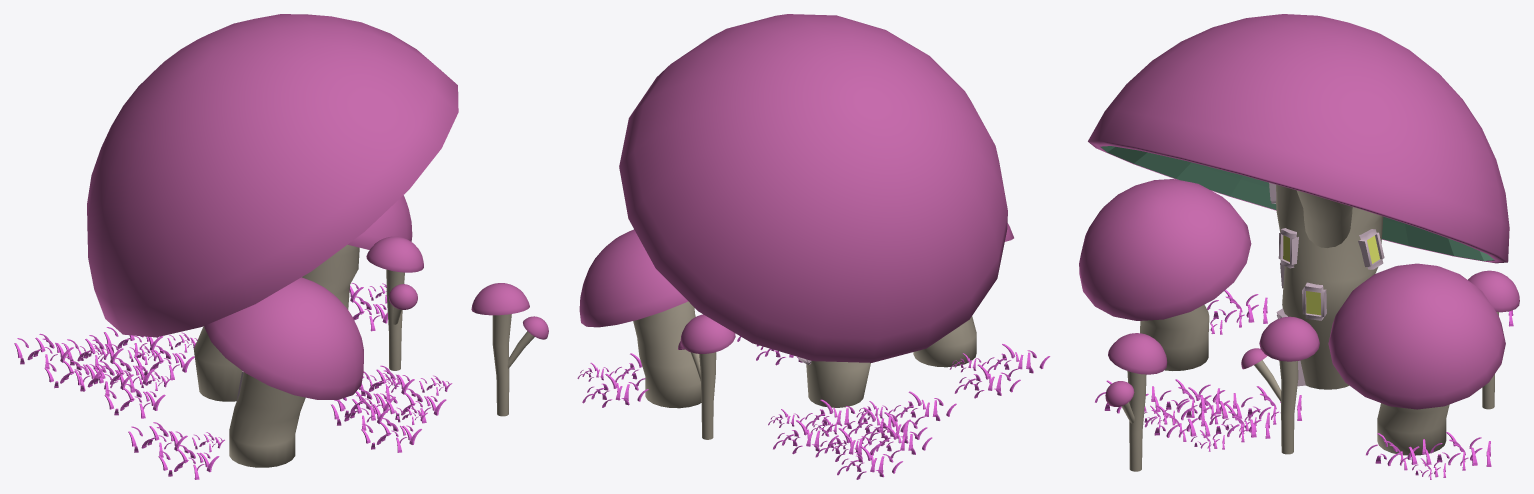
The model's file is chalupka UV TEXTURE v00.fbx.
3 views of the same model, side by side, from view 1: azimuth 30°, elevation 25°; view 2: azimuth 150°, elevation 25°; view 3: azimuth 270°, elevation 25° (orthographic). The views are drawn at different scales.
Parts seen in each view (by area): view 1: group15; view 2: group15; view 3: group15.
Boxes of the visible parts, x1,y1,x2,y2 form: group15: [14, 14, 548, 479]; group15: [577, 14, 1050, 479]; group15: [1079, 14, 1519, 479].
Size of the model in its own units: 2.82 by 2.64 by 2.87.
